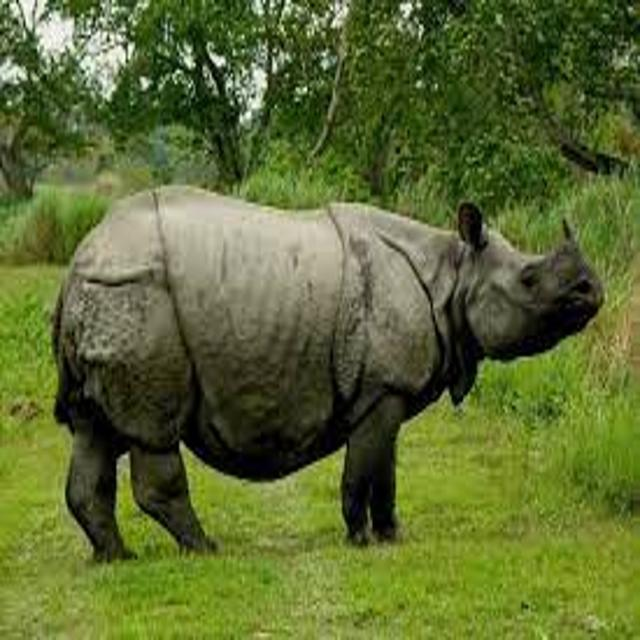Rinoceros: (29, 127, 617, 575)
